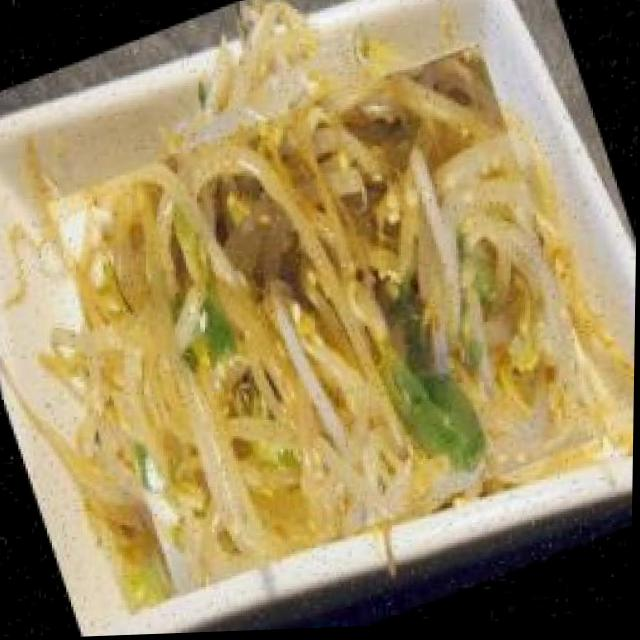mung_bean_sprouts: (43, 39, 614, 604)
